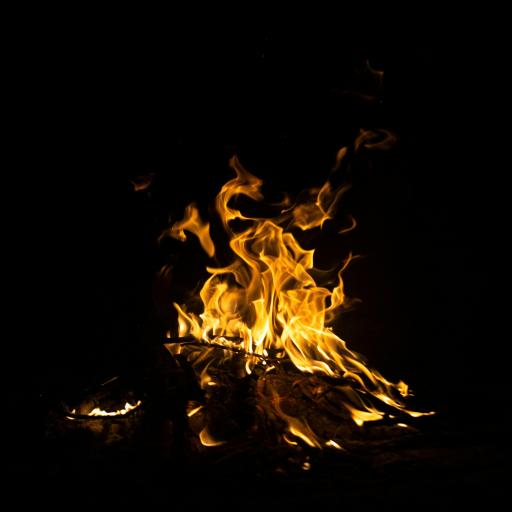campfire: (53, 72, 474, 512)
